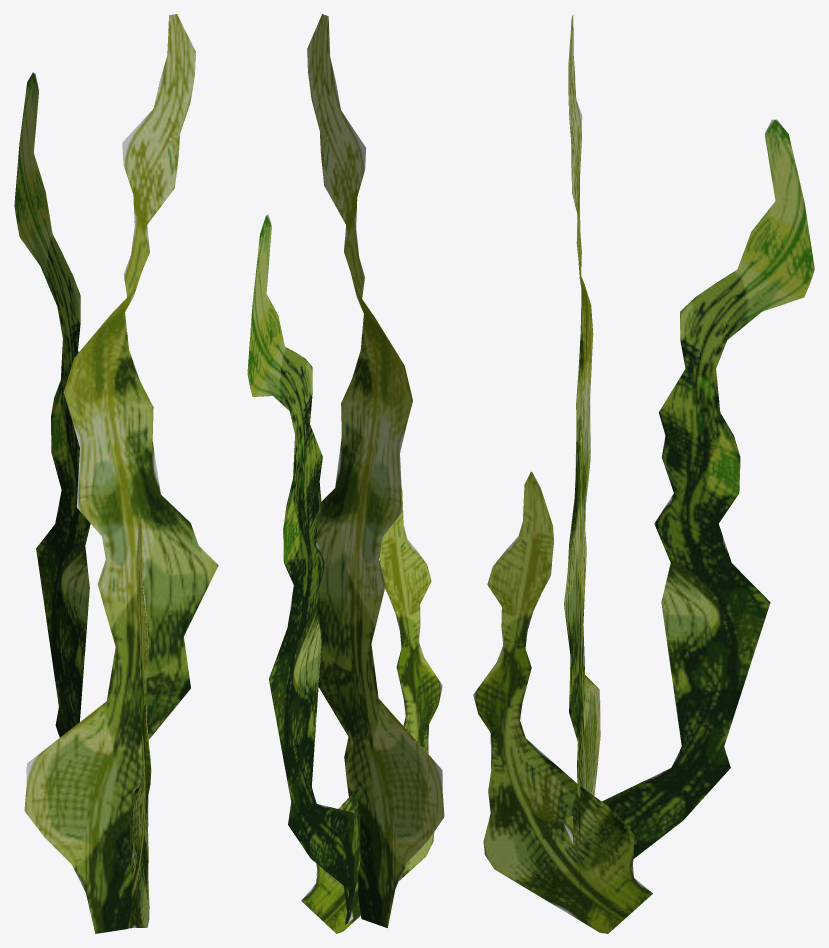
File: Algue grand.fbx
3 renders of one model, left to right at view 1: azimuth 30°, elevation 25°; view 2: azimuth 150°, elevation 25°; view 3: azimuth 270°, elevation 25°, orthographic. The views are drawn at different scales.
Visible parts, largest first — view 1: Algue grand; view 2: Algue grand; view 3: Algue grand.
Boxes of the visible parts, <box> form: Algue grand: <box>14,14,218,933</box>; Algue grand: <box>247,14,444,933</box>; Algue grand: <box>473,14,814,933</box>.
Size of the model in its own units: 24.27 by 121 by 40.04.
